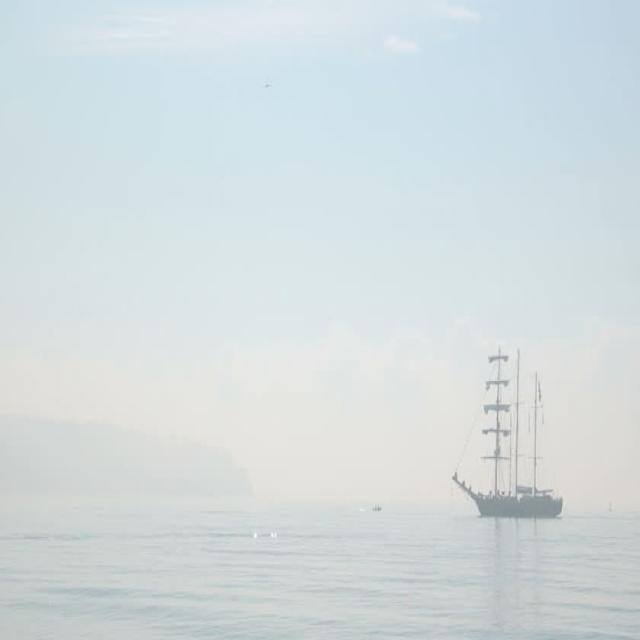fishing boat: (448, 336, 580, 524)
